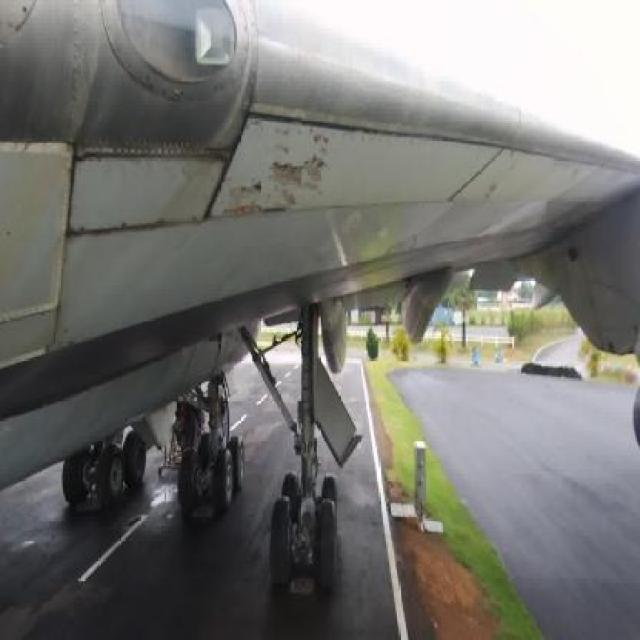Rust: (124, 171, 505, 274), (63, 172, 97, 277)
